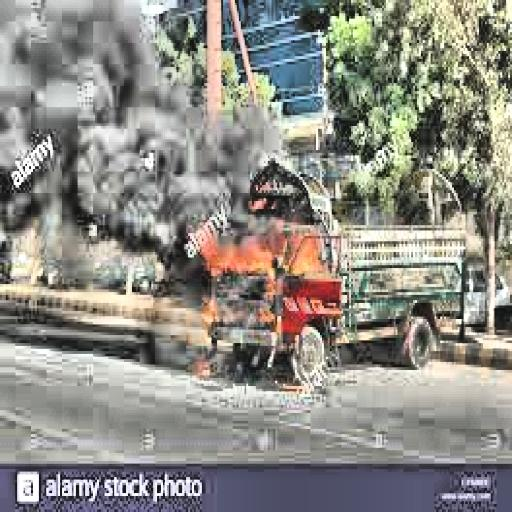fire: (192, 204, 341, 292)
